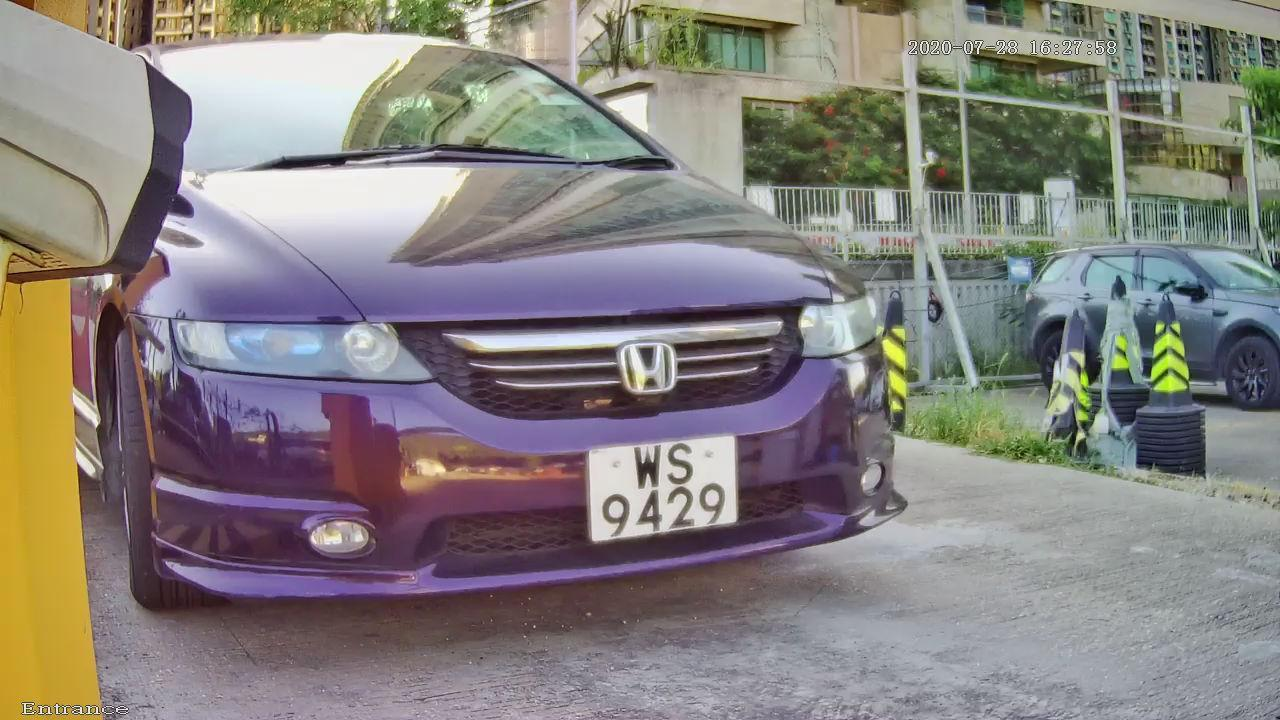privatecar: (18, 7, 1029, 672)
